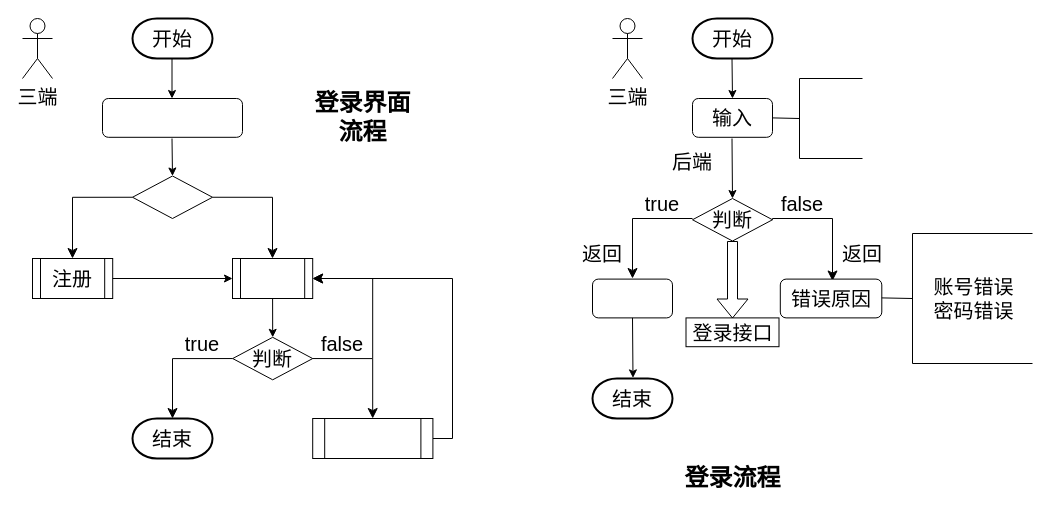
Some shapes in this 1050 by 515 pixel diagram are drawn without their labels. Each missing label, with the centre of its shape:
令牌: the point at 632,298
忘记密码: the point at 372,438
登录: the point at 272,278
账号 密码: the point at 830,118
进入登录页面: the point at 172,117
选择: the point at 172,196
